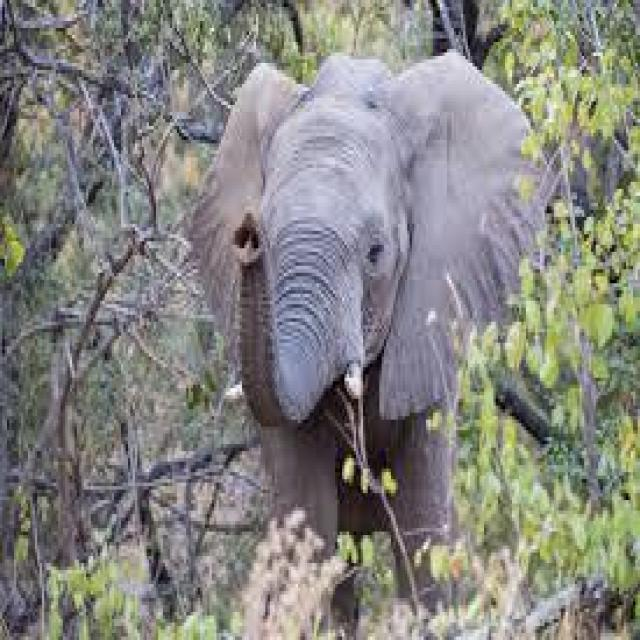Elephant: (186, 53, 528, 570)
